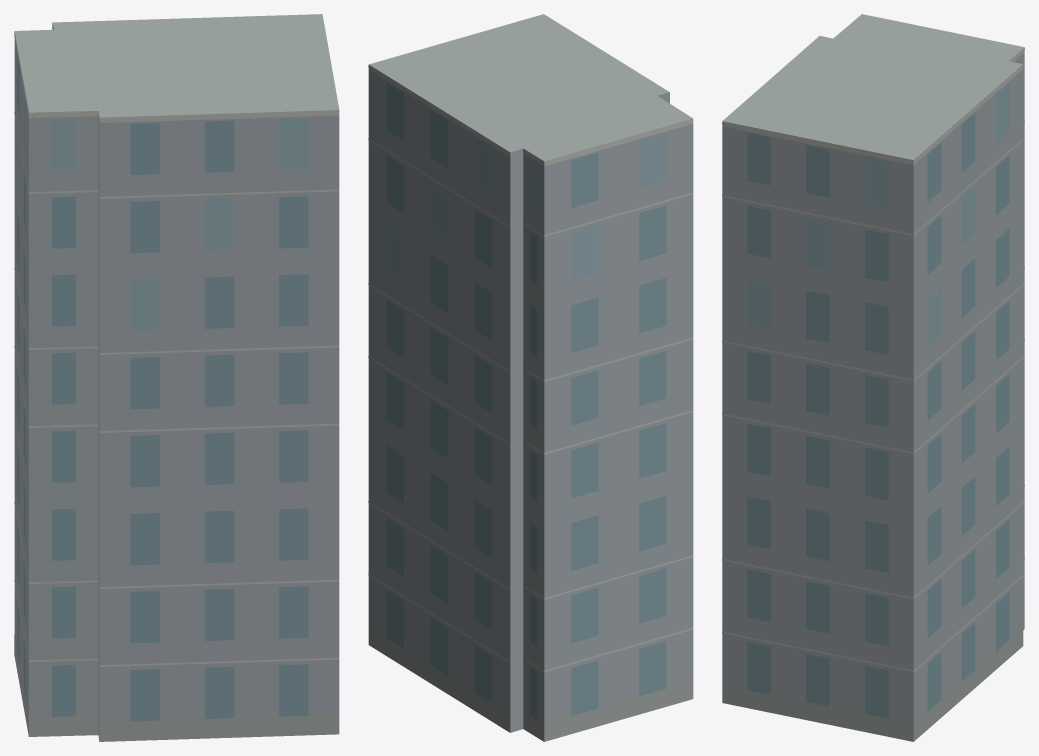
Rendered from survey-upis-32529921.glb.
3 views of the same model, side by side, from view 1: azimuth 30°, elevation 25°; view 2: azimuth 150°, elevation 25°; view 3: azimuth 270°, elevation 25° (orthographic). The views are drawn at different scales.
Visible parts, largest first — view 1: survey-upis-32529921.tmp; view 2: survey-upis-32529921.tmp; view 3: survey-upis-32529921.tmp.
Part boxes in pixels (x1=…): survey-upis-32529921.tmp: x1=14, y1=14, x2=339, y2=741; survey-upis-32529921.tmp: x1=368, y1=14, x2=693, y2=741; survey-upis-32529921.tmp: x1=722, y1=14, x2=1024, y2=741.
Size of the model in its own units: 15 by 27.8 by 13.12.
